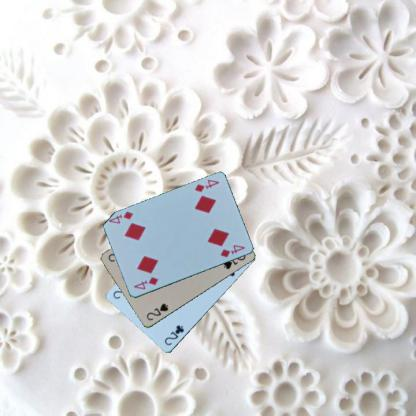2c: (162, 322, 185, 347)
2s: (144, 301, 169, 322)
4d: (130, 274, 160, 292), (192, 176, 220, 193)
